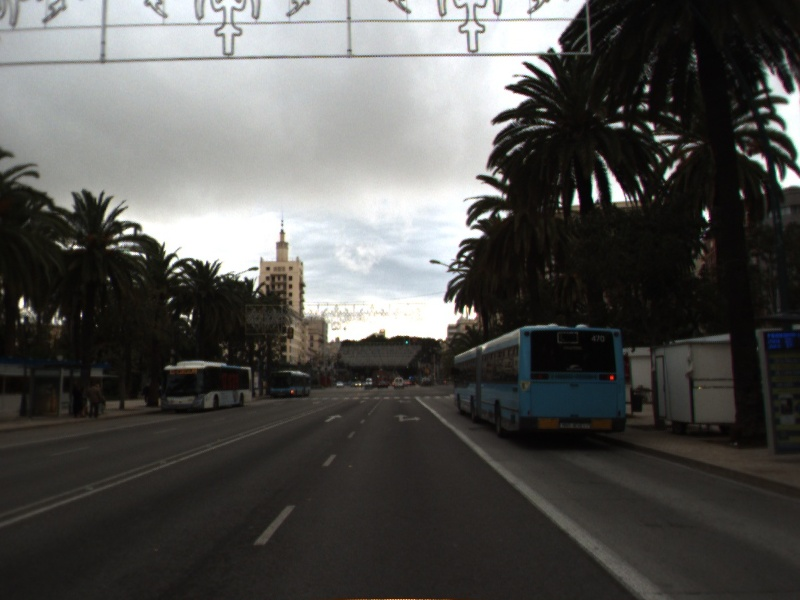STRAIGHT: (321, 412, 346, 424)
STRAIGHT_RIGHT: (391, 412, 423, 424)
